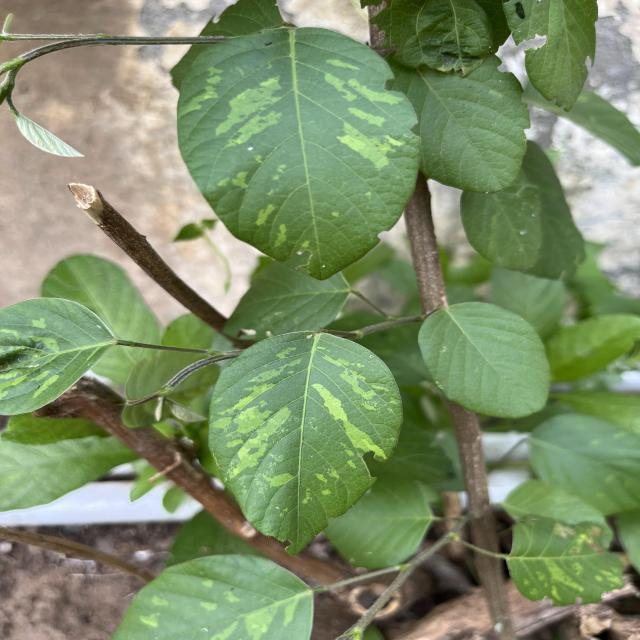Desmodium gangeticum: (172, 23, 428, 285), (204, 325, 408, 562)
